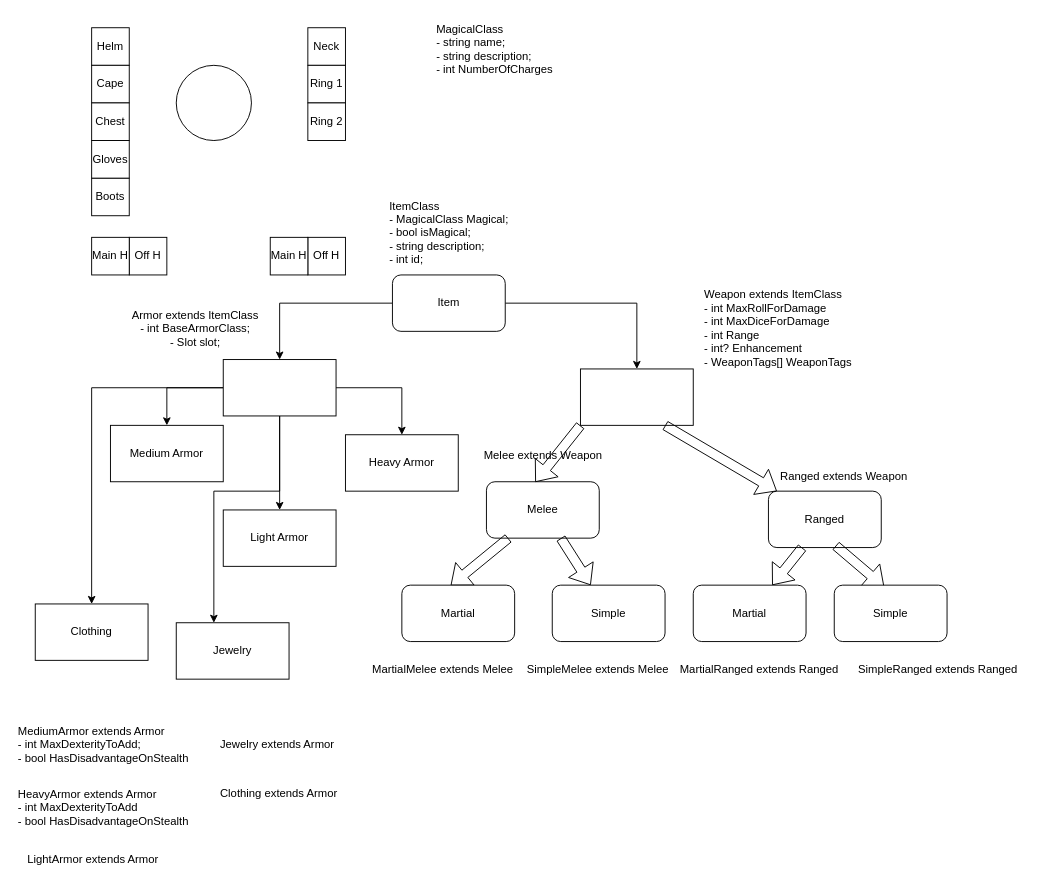
The diagram is 1042 pixels wide and 889 high, and some of its shapes have lost their labels. The centre of each missing label's shape, as x and y in pixels:
"Armor" belongs at (279,387).
"Char Icon" belongs at (213,102).
"Weapon" belongs at (636,396).
